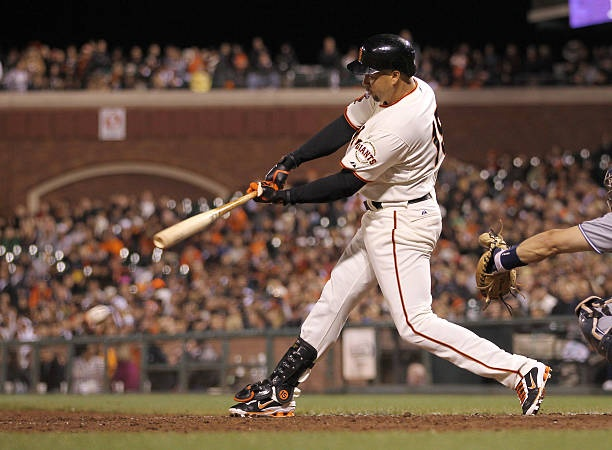bita: (151, 190, 288, 248)
